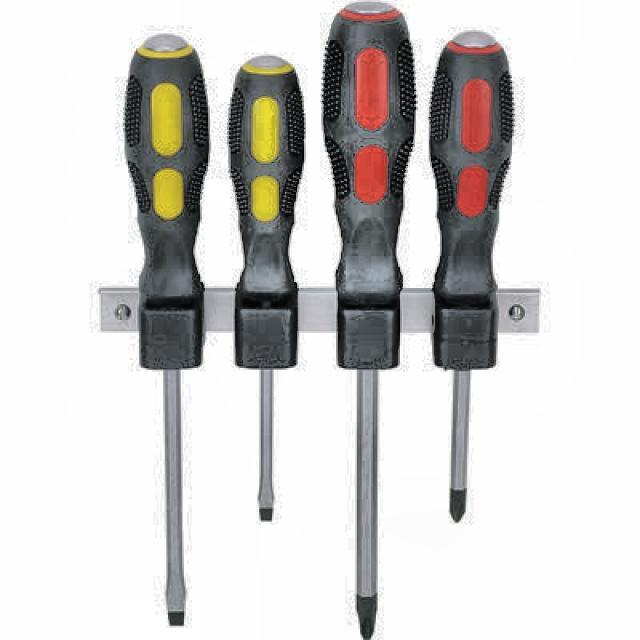screwdriver: (322, 1, 417, 638), (124, 34, 210, 627), (430, 31, 514, 522), (227, 56, 306, 522)
